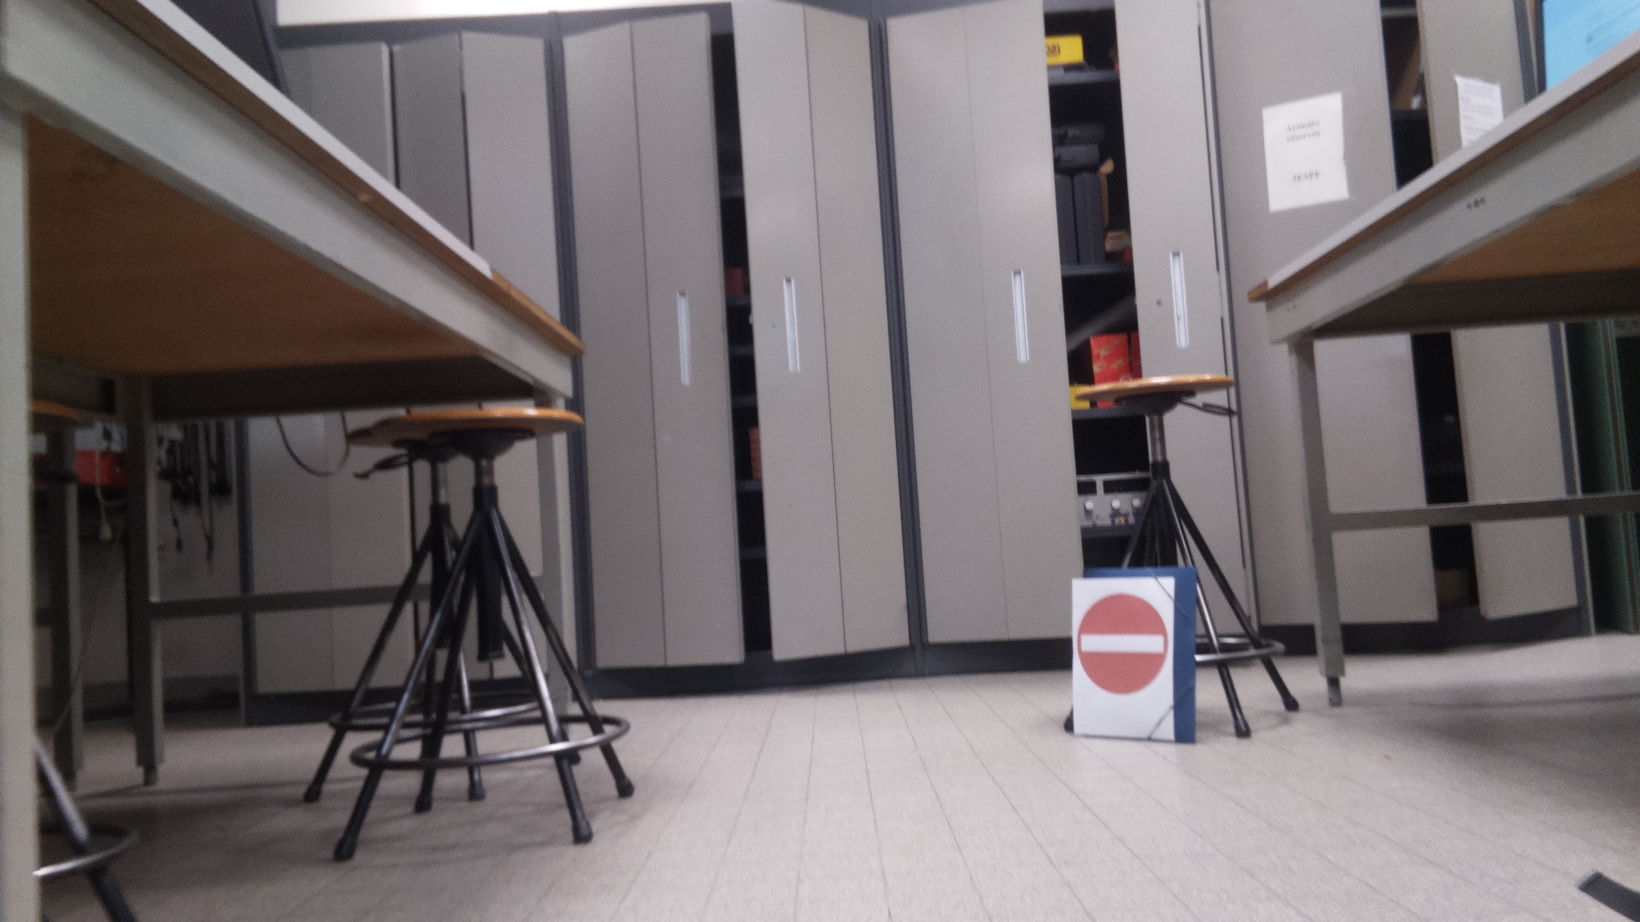prohibited: (1077, 592, 1169, 696)
